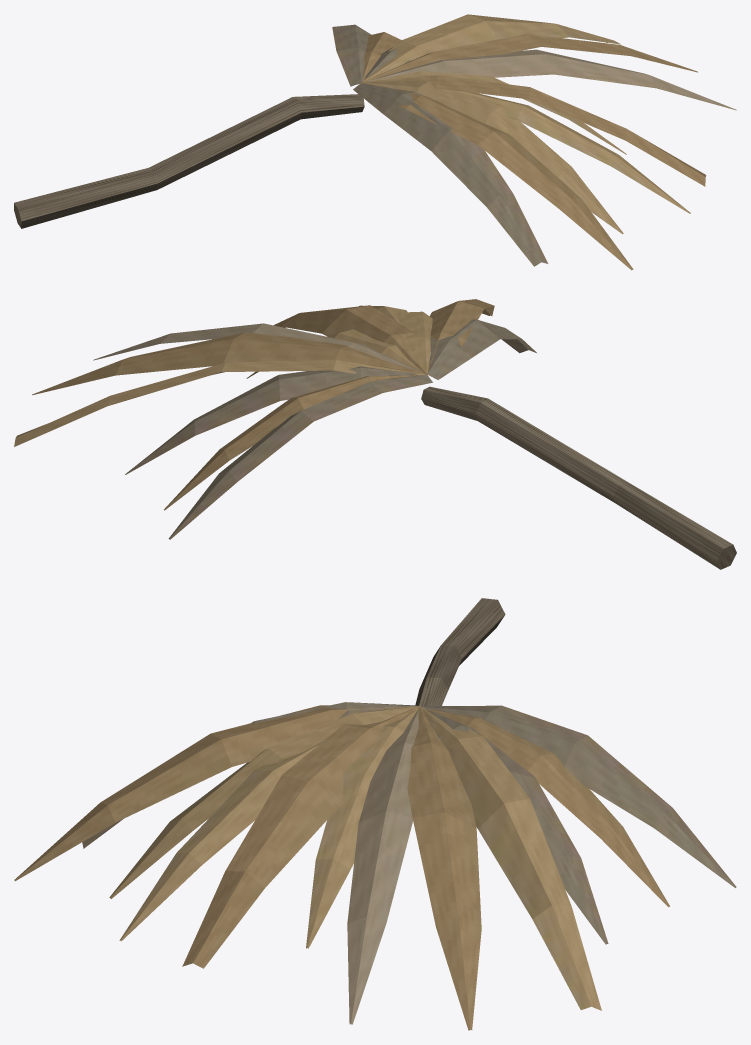
File: nb_frond_palmetto.glb
The picture shows the model from 3 angles, top to bottom: view 1: azimuth 30°, elevation 25°; view 2: azimuth 150°, elevation 25°; view 3: azimuth 270°, elevation 25°; orthographic projection. The views are drawn at different scales.
Visible parts, largest first — view 1: Dry_Palmetto_Frond_Broken; view 2: Dry_Palmetto_Frond_Broken; view 3: Dry_Palmetto_Frond_Broken.
Part boxes in pixels (x1,y1,x2,y2): Dry_Palmetto_Frond_Broken: (14,14,736,270); Dry_Palmetto_Frond_Broken: (14,299,736,569); Dry_Palmetto_Frond_Broken: (14,598,736,1030).
Size of the model in its own units: 1.37 by 0.1981 by 1.04.
Materials: 1 (1 with a texture image).
